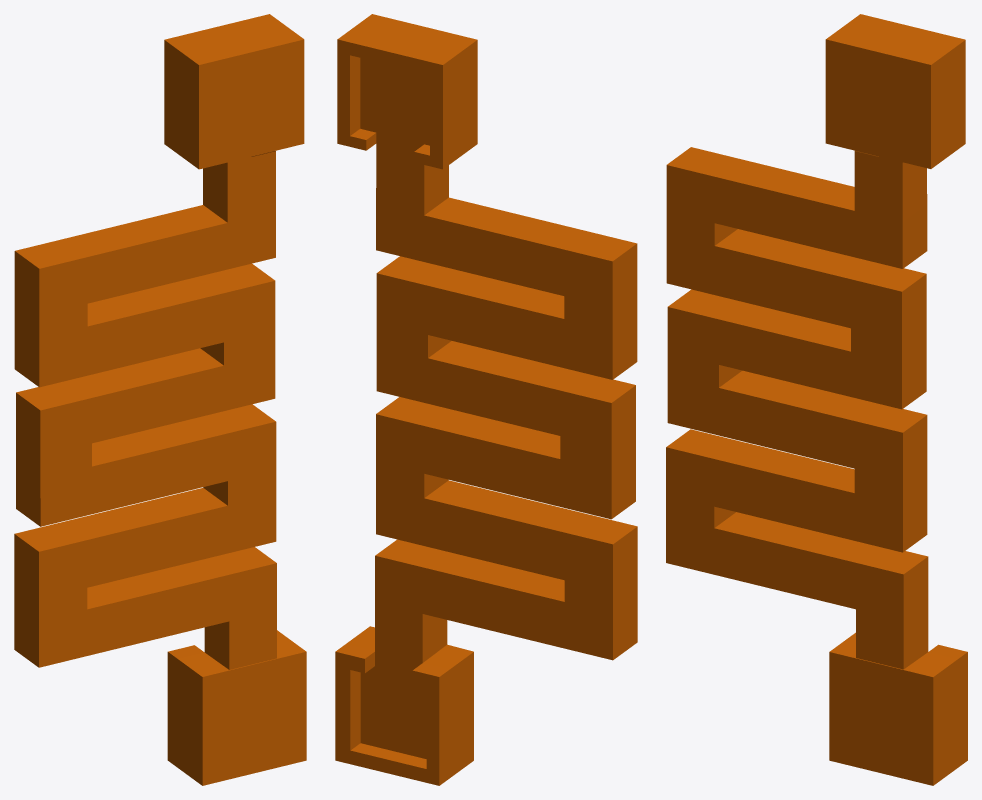
File: Stage8.fbx
The picture shows the model from 3 angles, left to right: view 1: azimuth 30°, elevation 25°; view 2: azimuth 150°, elevation 25°; view 3: azimuth 330°, elevation 25°; orthographic projection.
Parts seen in each view (by area): view 1: Cube; view 2: Cube; view 3: Cube.
Boxes of the visible parts, x1,y1,x2,y2 form: Cube: (14, 14, 306, 785); Cube: (335, 14, 637, 785); Cube: (666, 14, 967, 785).
Bounding box in the file's own units: 514 × 1325 × 116.
